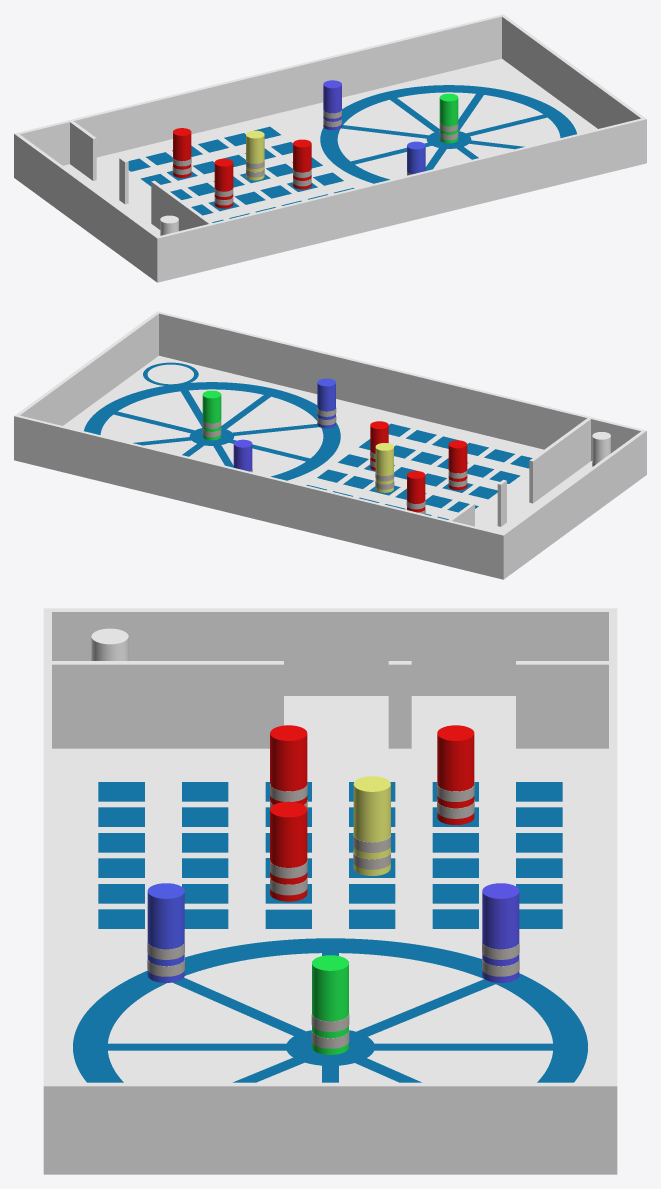
File: field.dae
3 renders of one model, top to bottom at view 1: azimuth 30°, elevation 25°; view 2: azimuth 150°, elevation 25°; view 3: azimuth 270°, elevation 25°, orthographic. The views are drawn at different scales.
Parts seen in each view (by area): view 1: MYRT-Field; view 2: MYRT-Field; view 3: MYRT-Field.
Boxes of the visible parts, x1,y1,x2,y2 form: MYRT-Field: (14,14,646,282); MYRT-Field: (14,311,646,579); MYRT-Field: (43,608,617,1174).
Size of the model in its own units: 2.44 by 1.24 by 0.21.
Materials: 1 (1 with a texture image).
